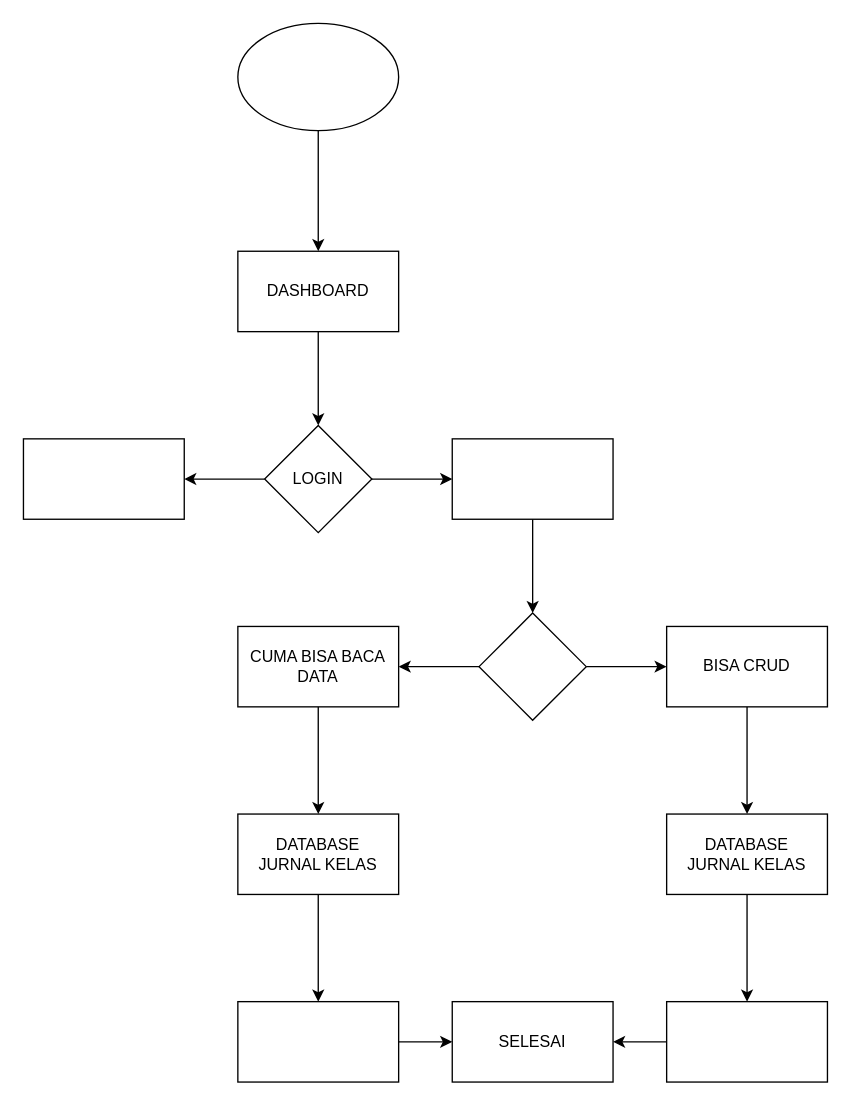
Some shapes in this 851 by 1106 pixel diagram are drawn without their labels. Each missing label, with the box of its shape:
ADMIN: (478, 612, 586, 720)
FITUR BELUM KEBUKA: (22, 438, 184, 519)
FITUR KEBUKA: (451, 438, 613, 519)
START: (237, 22, 399, 131)
